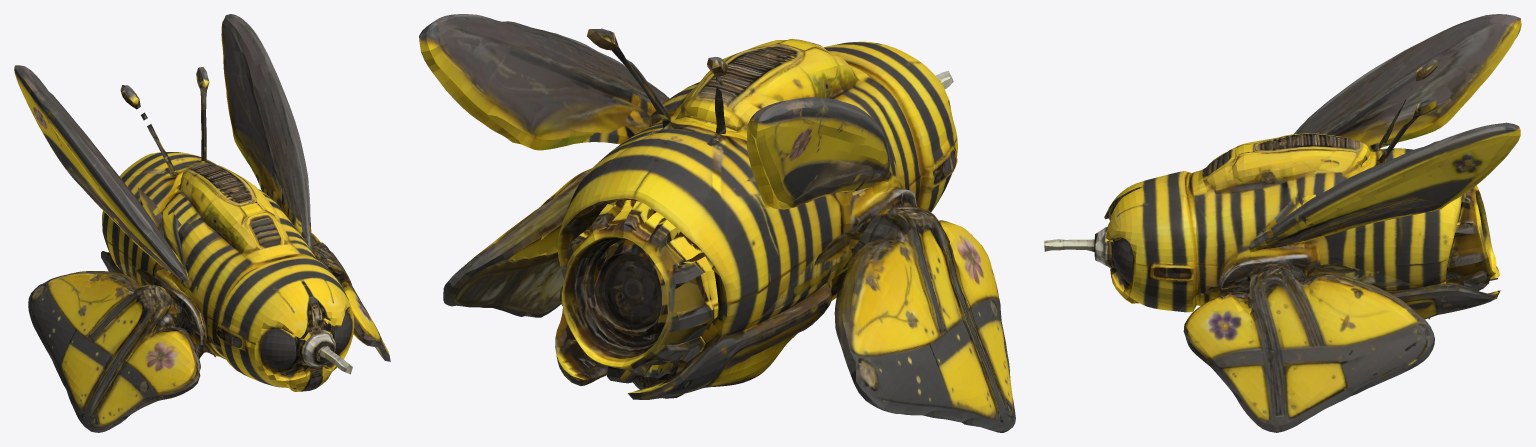
The model's file is bee_player.glb.
3 views of the same model, side by side, from view 1: azimuth 30°, elevation 25°; view 2: azimuth 150°, elevation 25°; view 3: azimuth 270°, elevation 25° (orthographic). The views are drawn at different scales.
Visible parts, largest first — view 1: output; view 2: output; view 3: output.
Boxes of the visible parts, x1,y1,x2,y2 form: output: [14, 14, 390, 432]; output: [419, 14, 1015, 432]; output: [1044, 14, 1521, 432].
Bounding box in the file's own units: 1.53 × 1.33 × 1.99.
1 material, 1 textured.
